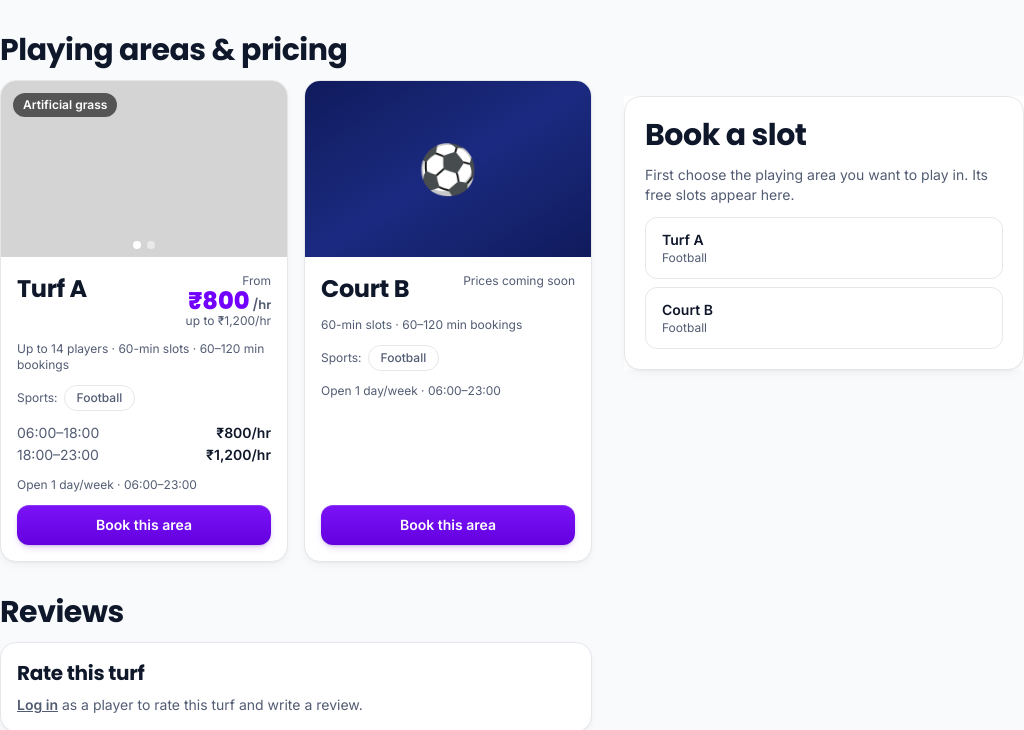
Scenario: customer: playing areas as cards › the slot box appears only after a playing area is chosen, and asks area, sport and date but no duration
The width and height of the screenshot is (1024, 730).
(page scrolled)
Check: the element named "Choose a playing area" shows "First choose the playing area", box [645,166,988,203]
Click the button "Book this area" below "Prices coming soon". click: click(448, 525)
box: [321,505,575,545]
(page scrolled)
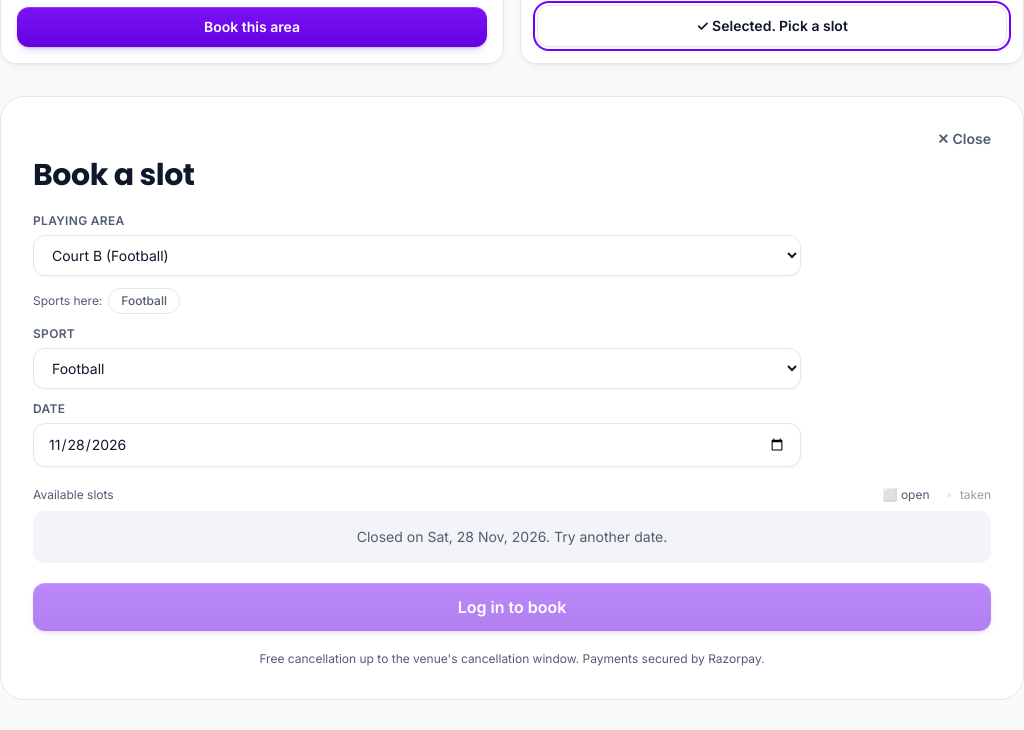
Check: the dropdown labelled "Playing area" shows "Court B (Football)"
Check: the button "✓ Selected. Pick a slot" is shown, box [537,5,1007,47]
Select "Turf A · Artificial grass (Football)" in the dropdown labelled "Playing area". click: (417, 256)
box: [33,235,801,276]
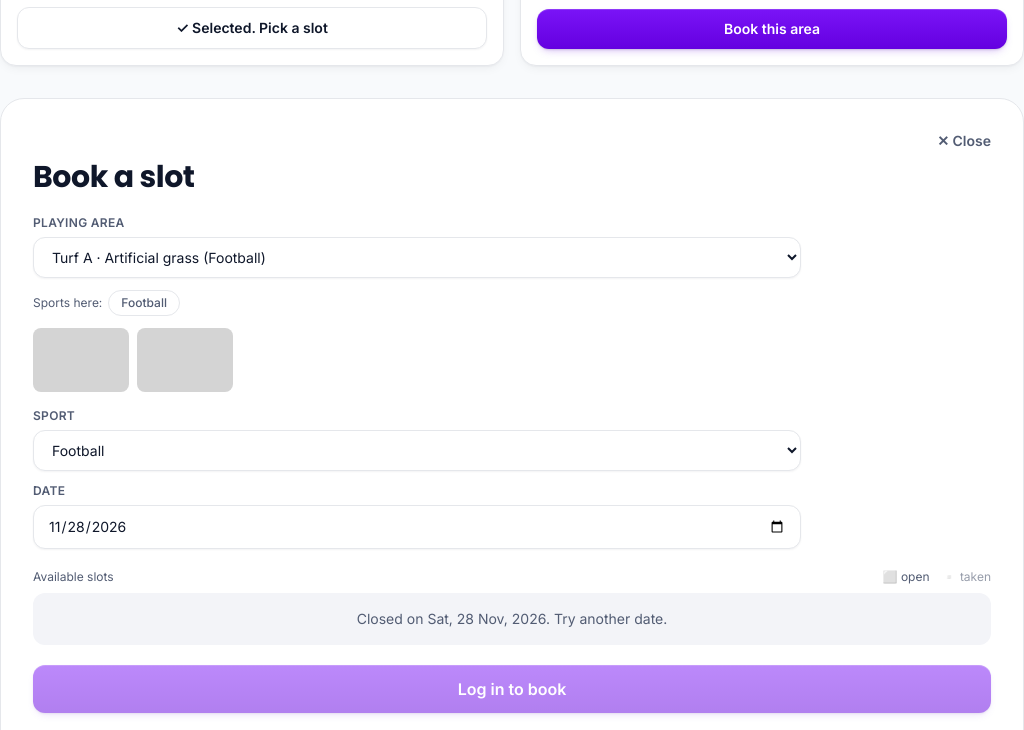
Check: the button "✓ Selected. Pick a slot" is shown, box [17,7,487,49]
